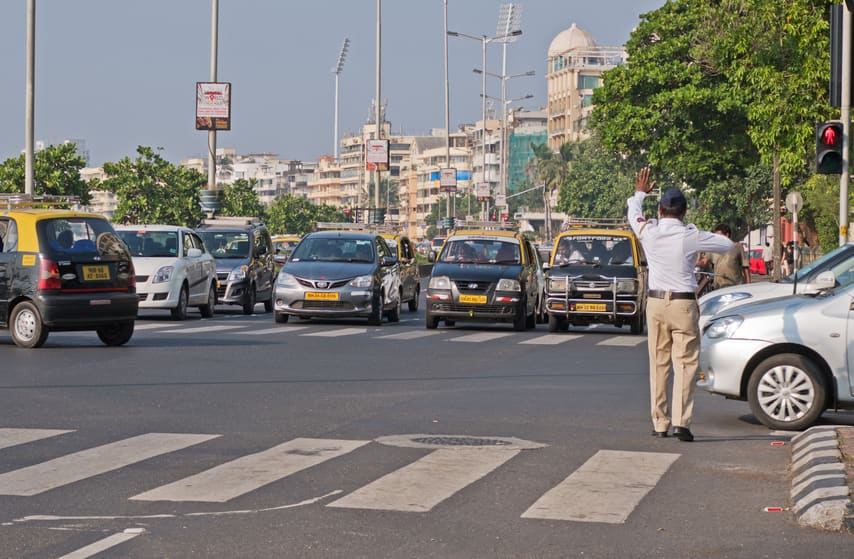car: (72, 194, 230, 345), (267, 198, 400, 343), (423, 220, 535, 345), (177, 206, 279, 329)
